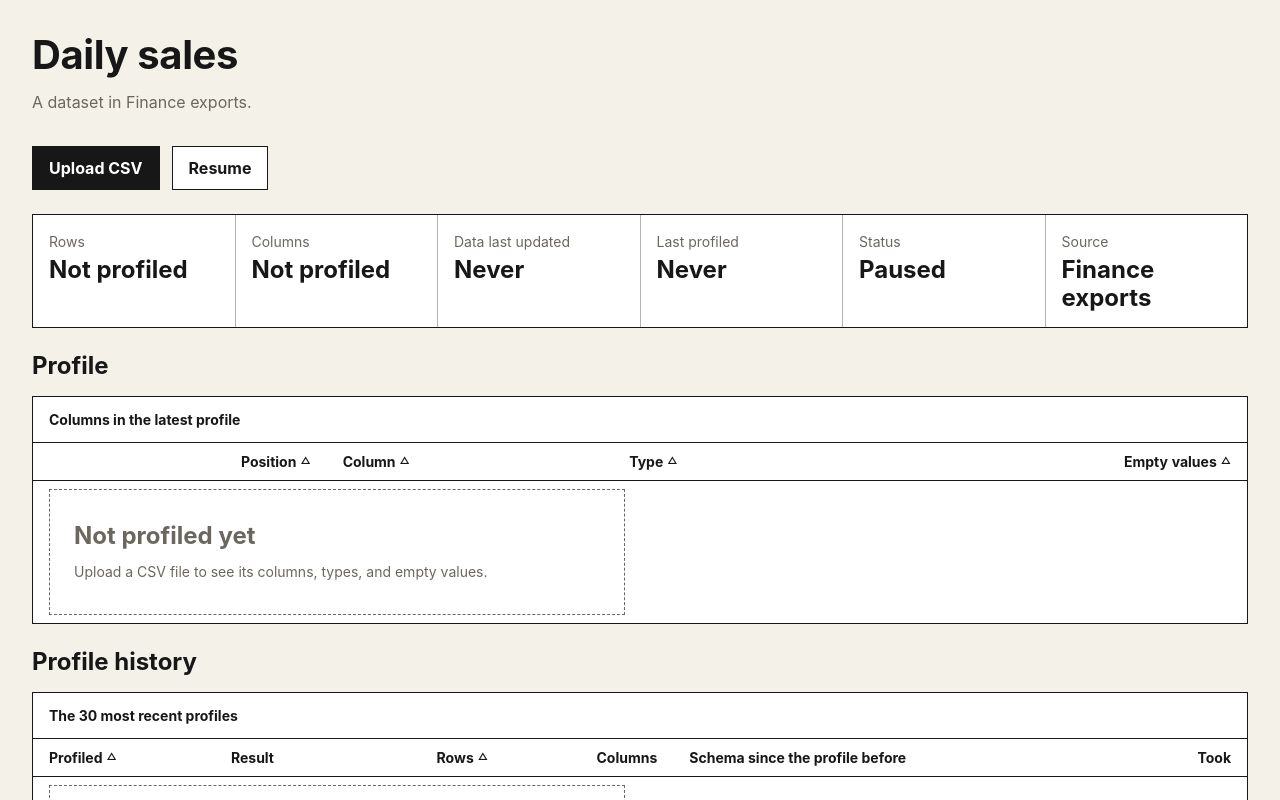
it: Dataset actions › shows the status and why a resume was refused
Check: the text "Paused" is shown, box left=859, top=255, right=946, bottom=284
Click the button with aria-label "Resume Daily sales".
click(220, 168)  # box left=172, top=146, right=268, bottom=190
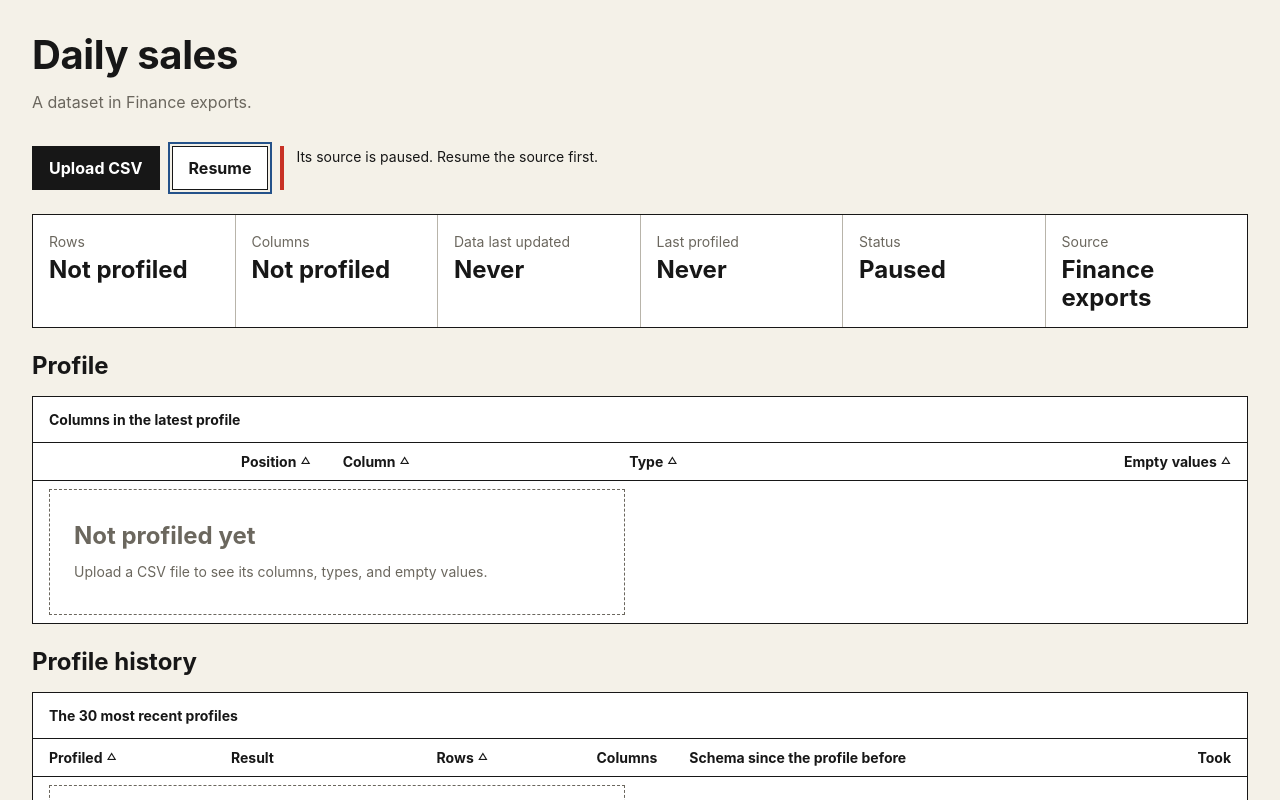
Check: the message reads "Its source is paused. Resume the source first.", box left=296, top=148, right=598, bottom=165
